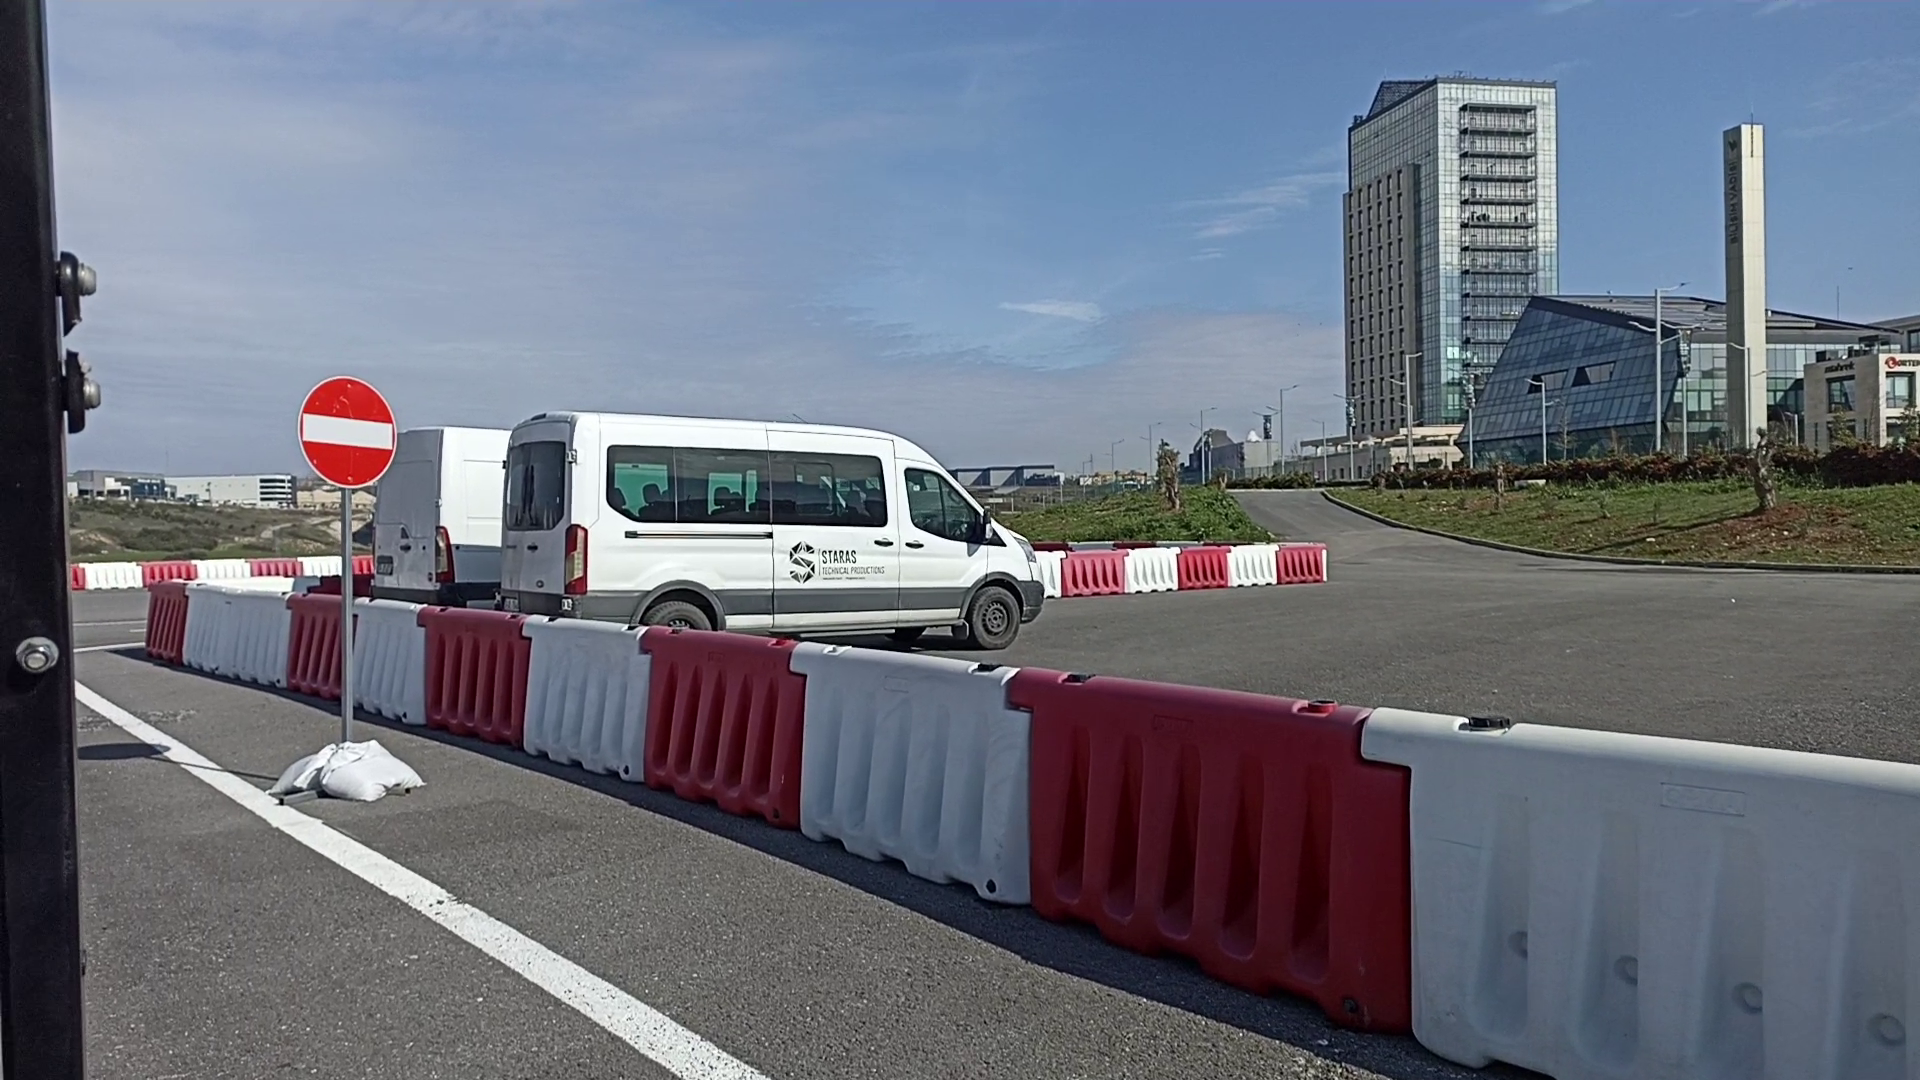noentryway: (297, 375, 400, 491)
